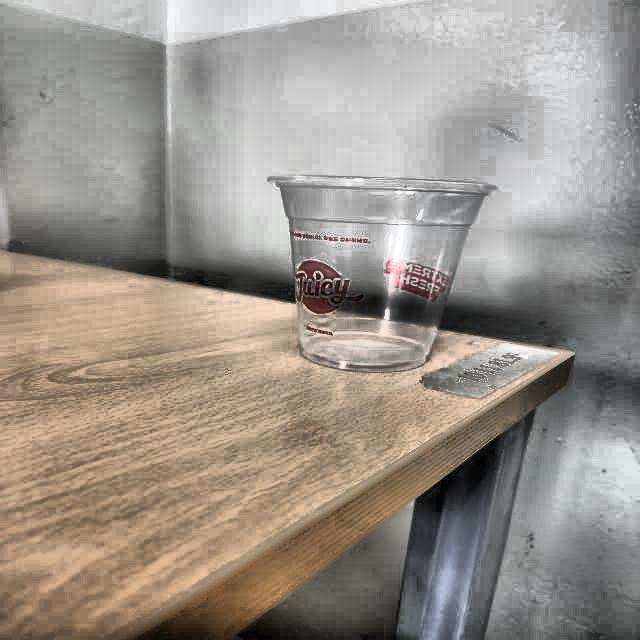plastic cup: (264, 168, 498, 377)
